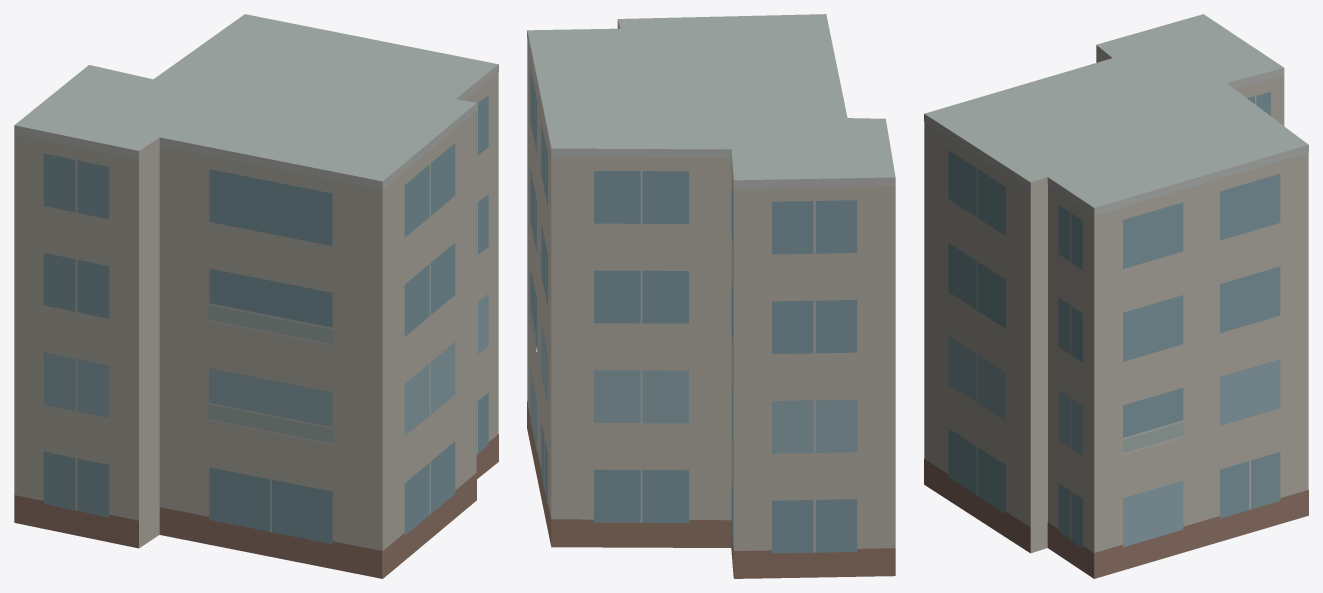
The model's file is survey-upis-32990589.glb.
The picture shows the model from 3 angles, left to right: view 1: azimuth 30°, elevation 25°; view 2: azimuth 150°, elevation 25°; view 3: azimuth 270°, elevation 25°; orthographic projection. The views are drawn at different scales.
Parts seen in each view (by area): view 1: survey-upis-32990589.tmp; view 2: survey-upis-32990589.tmp; view 3: survey-upis-32990589.tmp.
Boxes of the visible parts, <box> form: survey-upis-32990589.tmp: <box>14,14,498,578</box>; survey-upis-32990589.tmp: <box>527,14,895,578</box>; survey-upis-32990589.tmp: <box>924,14,1308,578</box>.
Bounding box in the file's own units: 12.91 × 11.5 × 10.81.
